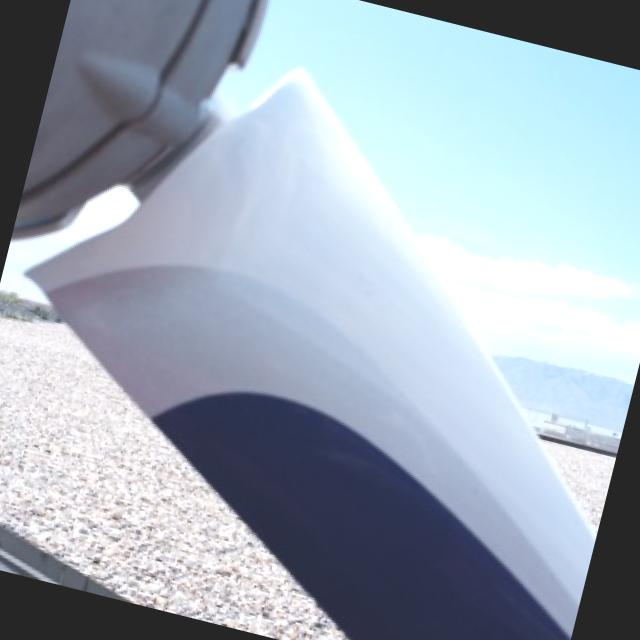healthy: (0, 333, 347, 640)
